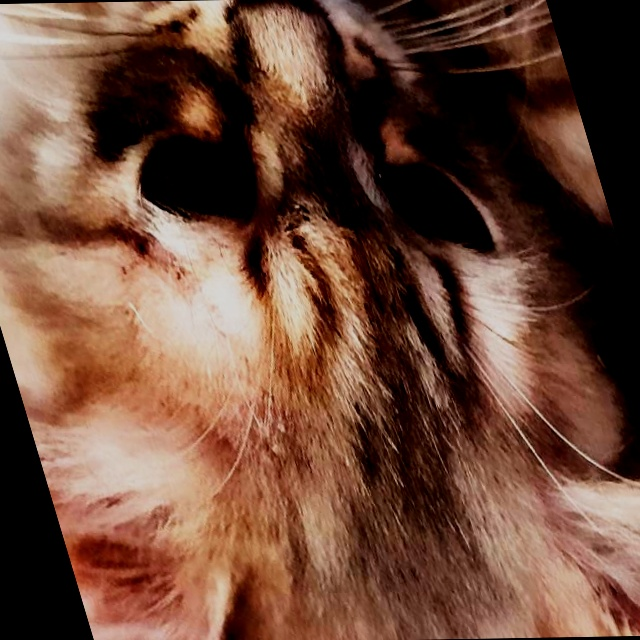hairloss: (148, 235, 269, 348)
